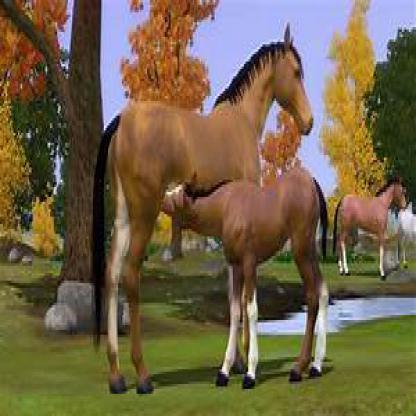horse: (88, 22, 318, 394), (165, 172, 331, 394), (331, 177, 409, 283)
